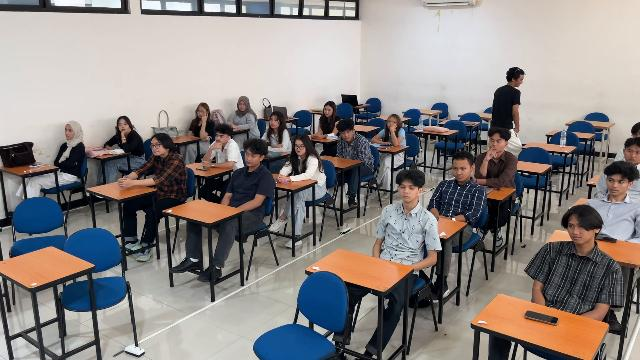fokus: (567, 219, 588, 244), (607, 175, 627, 195), (399, 181, 416, 202), (452, 161, 468, 181), (624, 147, 640, 164), (489, 136, 504, 152), (151, 139, 163, 155), (245, 151, 257, 166), (295, 140, 305, 155), (340, 130, 352, 141), (65, 126, 75, 139), (215, 133, 227, 143), (270, 115, 279, 128), (118, 120, 128, 131), (388, 117, 396, 130), (197, 107, 206, 118), (324, 106, 332, 117), (239, 101, 246, 111)
